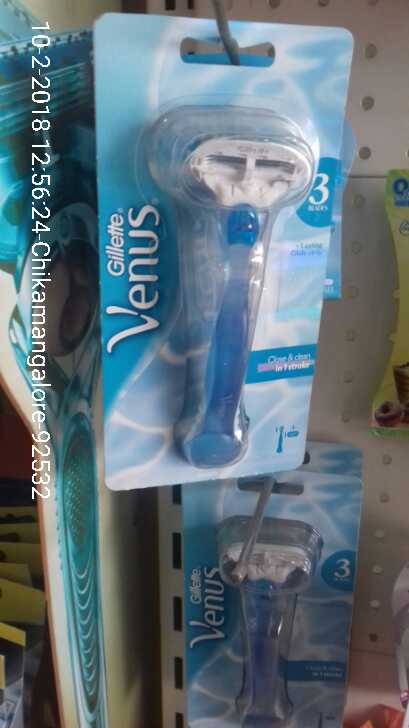venus: (151, 94, 289, 474), (205, 496, 326, 728)
